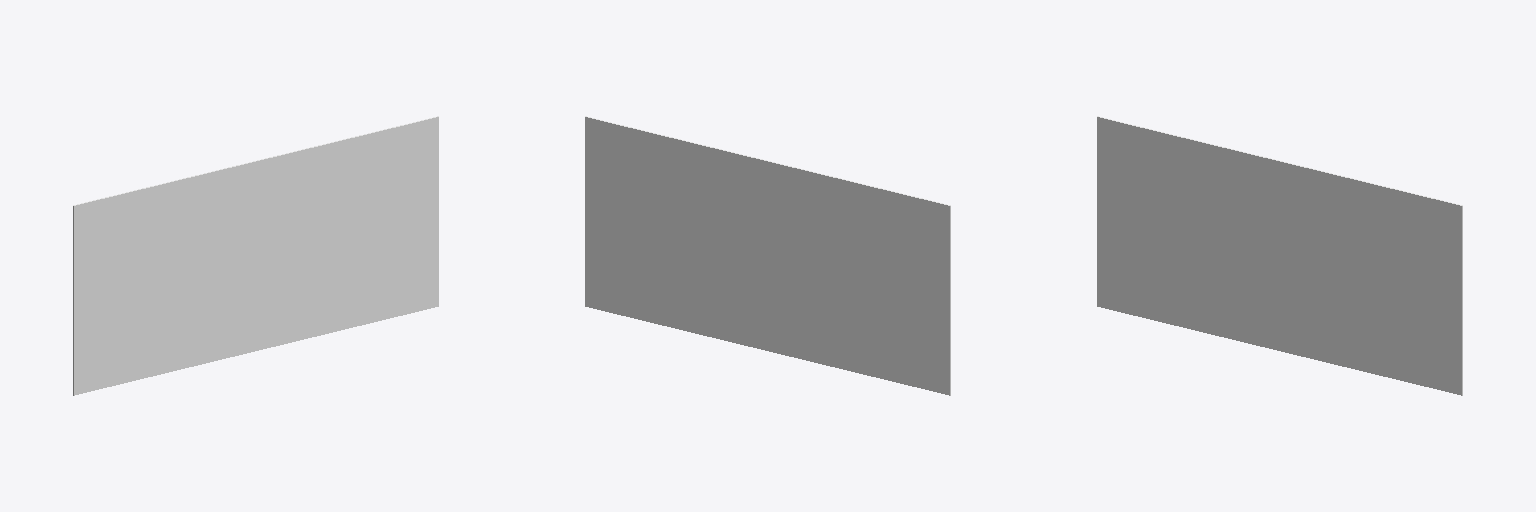
The model's file is stage1_wall_front.obj.
3 views of the same model, side by side, from view 1: azimuth 30°, elevation 25°; view 2: azimuth 150°, elevation 25°; view 3: azimuth 330°, elevation 25° (orthographic).
Visible parts, largest first — view 1: object 1; view 2: object 1; view 3: object 1.
Boxes of the visible parts, x1=… form: object 1: x1=73, y1=116, x2=438, y2=395; object 1: x1=585, y1=116, x2=950, y2=395; object 1: x1=1097, y1=116, x2=1462, y2=395.
Bounding box in the file's own units: 25.6 × 12.7 × 0.1.